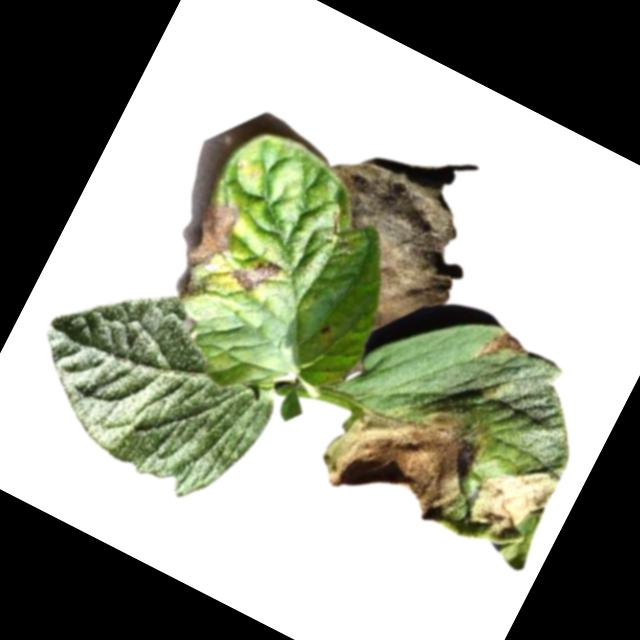Late_blight: (274, 143, 490, 356), (312, 355, 504, 542), (460, 445, 563, 555), (179, 190, 255, 282), (227, 246, 284, 301), (476, 322, 530, 373), (180, 271, 212, 305), (316, 320, 335, 339)
